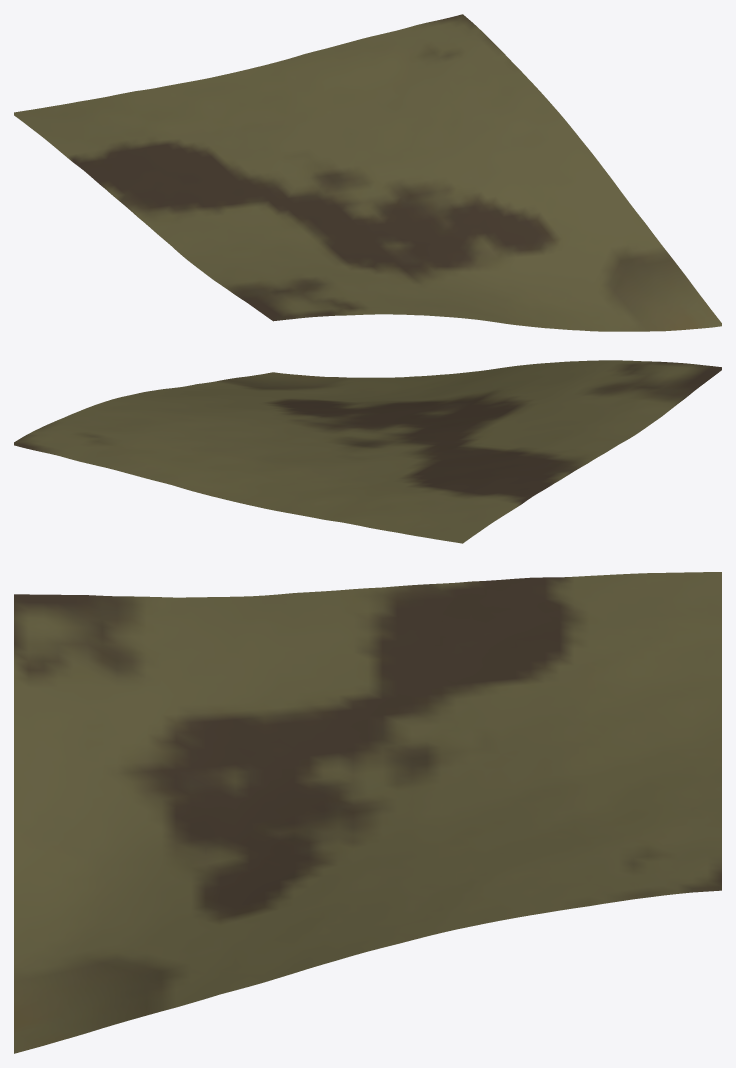
Rendered from land_m_06_02.glb.
3 views of the same model, one above another, from view 1: azimuth 30°, elevation 25°; view 2: azimuth 150°, elevation 25°; view 3: azimuth 270°, elevation 25° (orthographic). The views are drawn at different scales.
Parts seen in each view (by area): view 1: land_m_06_02; view 2: land_m_06_02; view 3: land_m_06_02.
Boxes of the visible parts, x1,y1,x2,y2 form: land_m_06_02: (14,14,721,331); land_m_06_02: (14,360,721,543); land_m_06_02: (14,572,721,1053).
Size of the model in its own units: 960 by 273 by 960.
